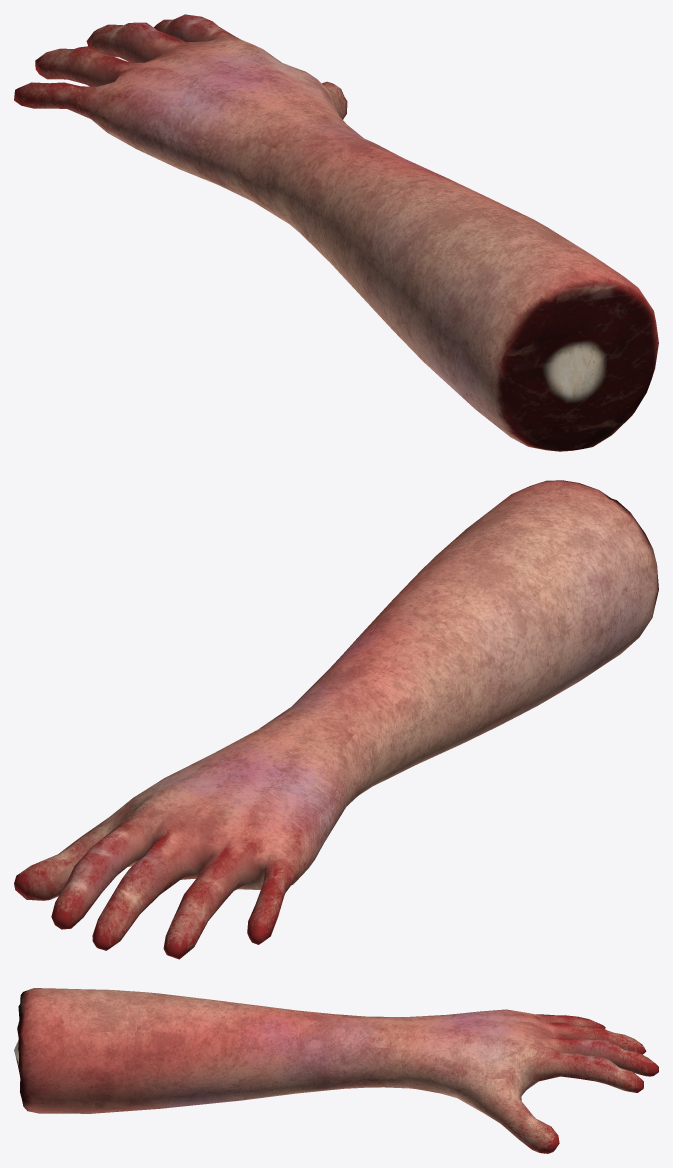
Rendered from severed_arm.glb.
The picture shows the model from 3 angles, top to bottom: view 1: azimuth 30°, elevation 25°; view 2: azimuth 150°, elevation 25°; view 3: azimuth 270°, elevation 25°; orthographic projection. The views are drawn at different scales.
Parts seen in each view (by area): view 1: Cube.001; view 2: Cube.001; view 3: Cube.001.
Part boxes in pixels (x1,y1,x2,y2): Cube.001: (14, 14, 658, 451); Cube.001: (14, 480, 658, 959); Cube.001: (14, 988, 658, 1153).
Size of the model in its own units: 3.59 by 2.07 by 10.58.
1 material, 1 textured.
